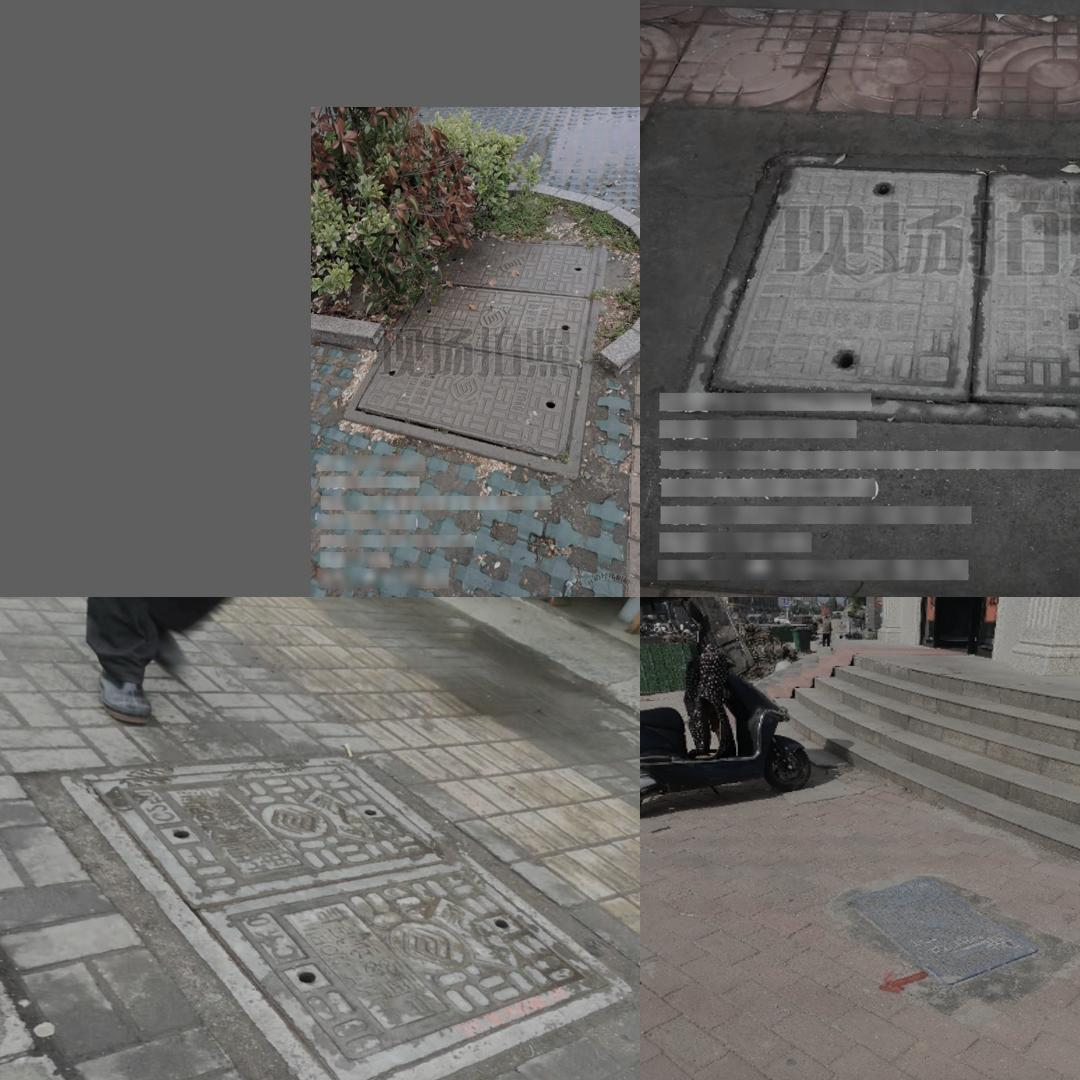good: (59, 756, 634, 1080), (685, 152, 1080, 437), (342, 240, 608, 477), (849, 876, 1043, 985)
